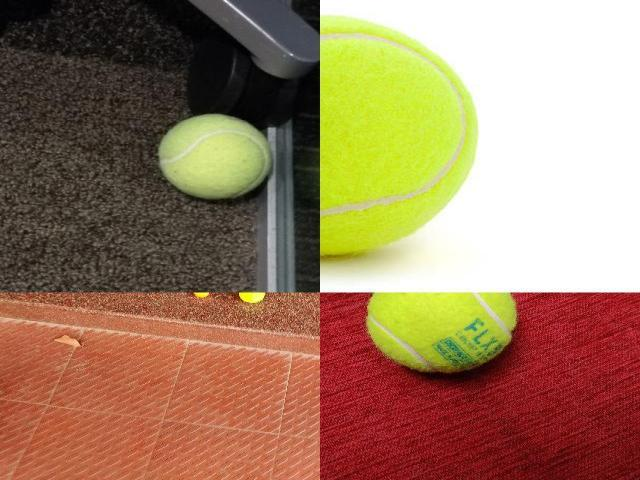tennis-ball: (320, 14, 478, 256), (365, 292, 518, 373), (156, 113, 272, 201), (238, 293, 265, 303)
